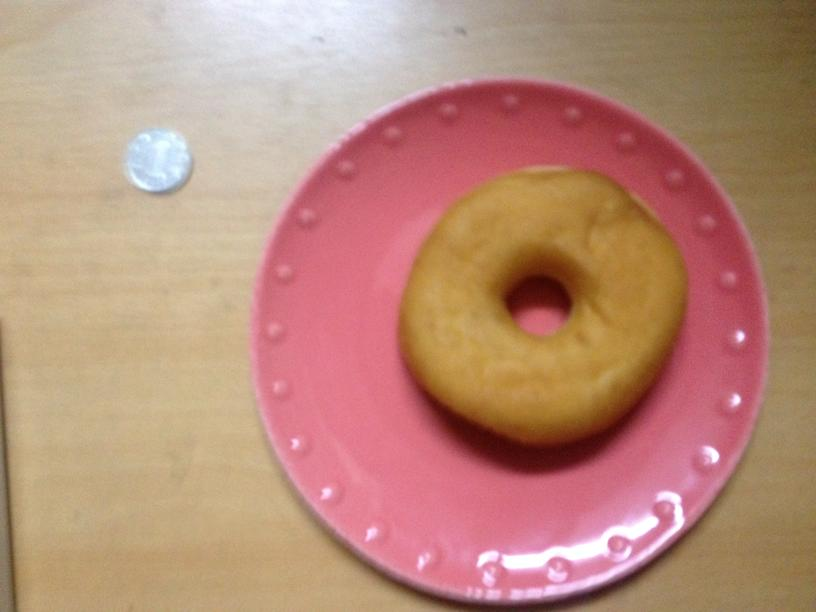coin: (121, 129, 192, 194)
doughnut: (398, 166, 688, 442)
